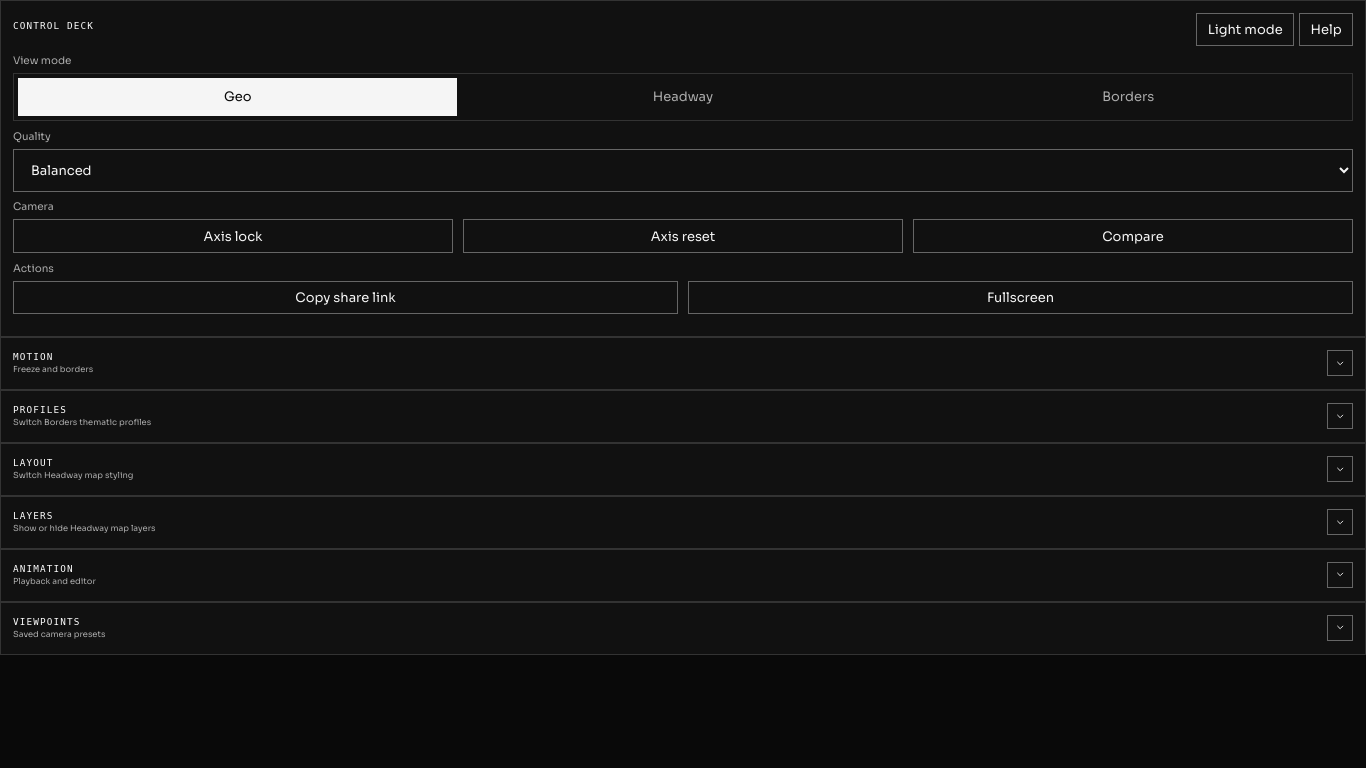
Test: ControlDock › reveals the animation tools only after expanding the animation section
What coordinates should you click on to do the following:
click the button with aria-label "toggle layers section"
I would click on:
 (33, 516)
Its box is [13,509,1353,535].
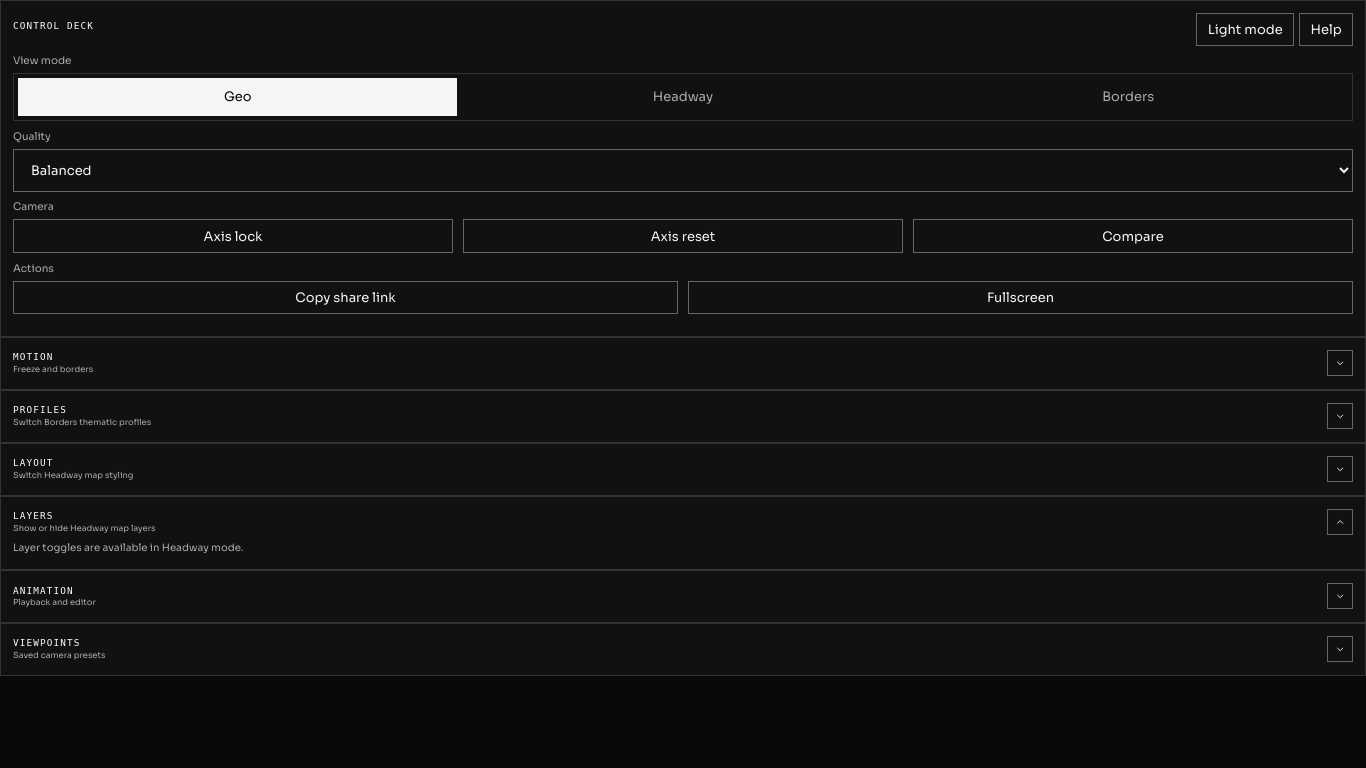
What coordinates should you click on to do the following:
click the button with aria-label "toggle profiles section"
I would click on:
 (40, 410)
Its box is [13,403,1353,429].
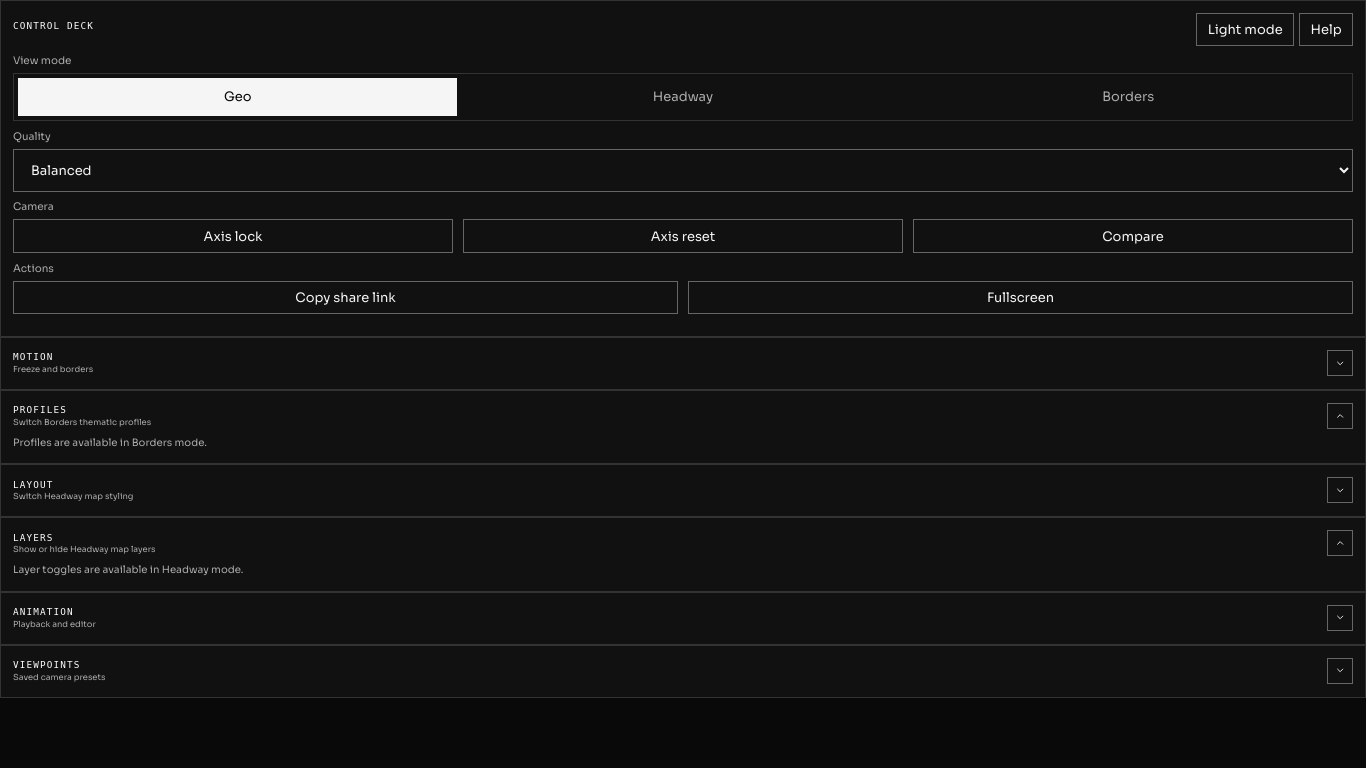
What coordinates should you click on to do the following:
click the button with aria-label "toggle layout section"
I would click on:
 (33, 484)
Its box is [13,477,1353,503].
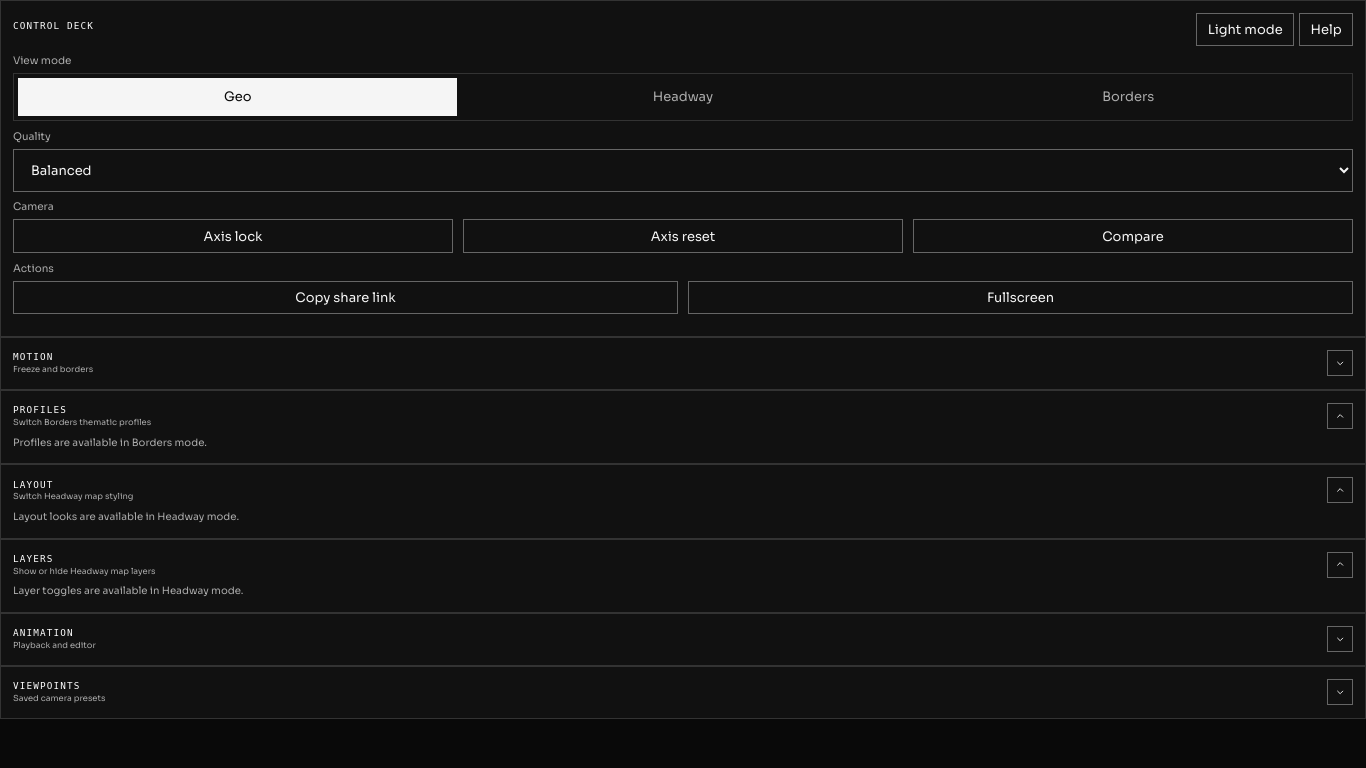
What coordinates should you click on to do the following:
click the button with aria-label "toggle animation section"
I would click on:
 (43, 633)
Its box is [13,626,1353,652].
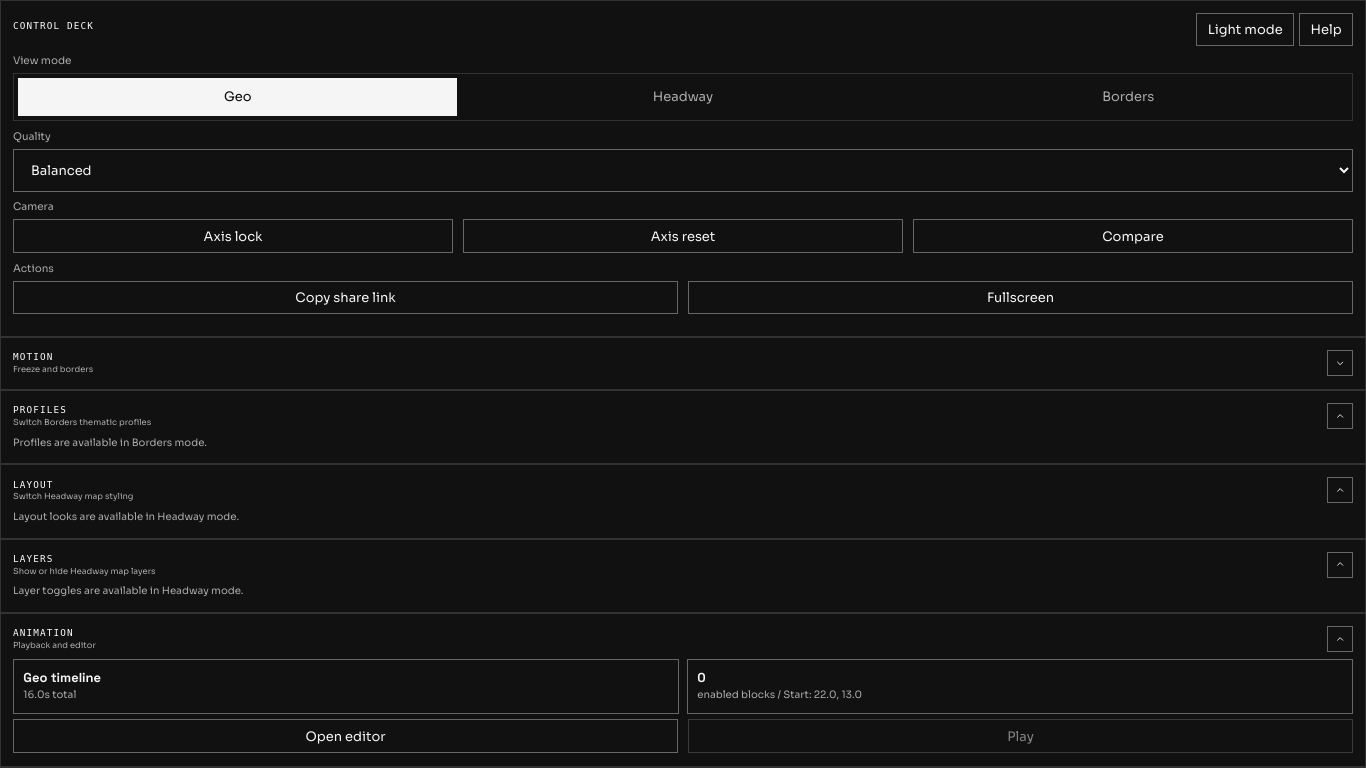
Now the text "Layer toggles are available in Headway mode." is shown, box [13,584,244,597]
Now the text "Profiles are available in Borders mode." is shown, box [13,436,207,448]
Now the text "Geo timeline" is shown, box [23,669,101,686]
